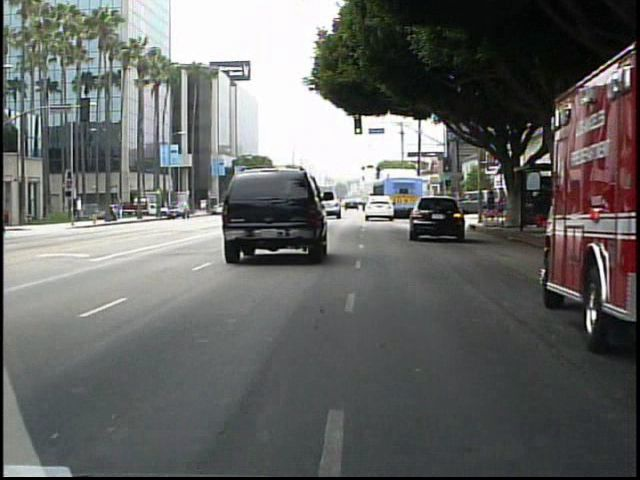person: (4, 205, 15, 237)
